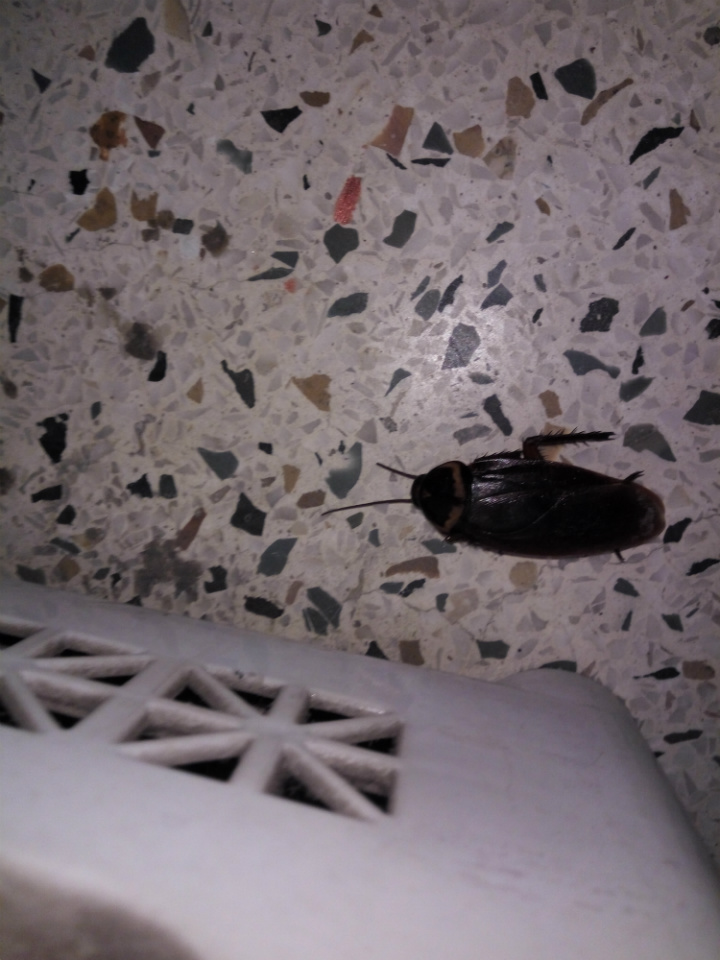cockroach: (329, 400, 693, 606)
